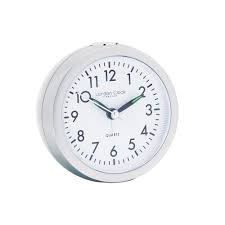alarm_clock: (35, 42, 179, 184), (41, 42, 179, 184)
